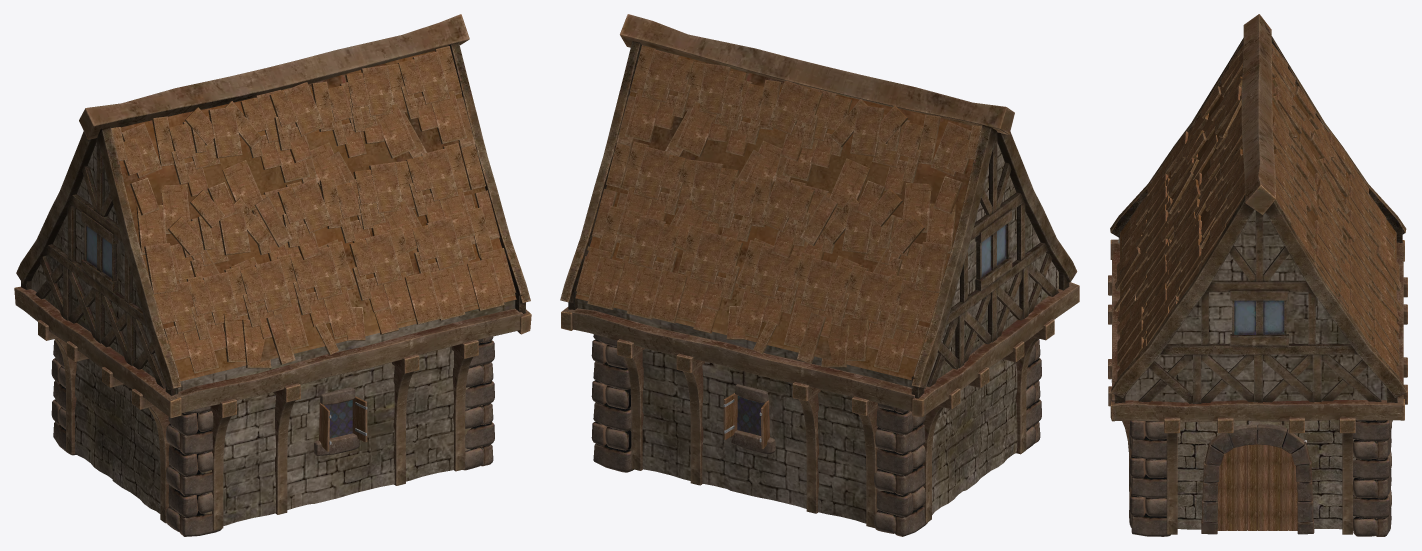
The model's file is house_tiny.glb.
The picture shows the model from 3 angles, left to right: view 1: azimuth 30°, elevation 25°; view 2: azimuth 150°, elevation 25°; view 3: azimuth 270°, elevation 25°; orthographic projection. The views are drawn at different scales.
Visible parts, largest first — view 1: defaultMaterial_2, defaultMaterial, defaultMaterial_4, defaultMaterial_3, defaultMaterial_1; view 2: defaultMaterial_2, defaultMaterial, defaultMaterial_4, defaultMaterial_3, defaultMaterial_1; view 3: defaultMaterial_2, defaultMaterial_3, defaultMaterial_4, defaultMaterial, defaultMaterial_1.
Boxes of the visible parts, bbox=[...] form: defaultMaterial_2: bbox=[79, 14, 516, 381]; defaultMaterial: bbox=[31, 142, 515, 525]; defaultMaterial_4: bbox=[14, 226, 531, 530]; defaultMaterial_3: bbox=[16, 42, 530, 395]; defaultMaterial_1: bbox=[51, 336, 494, 536]; defaultMaterial_2: bbox=[575, 14, 1014, 379]; defaultMaterial: bbox=[577, 142, 1058, 523]; defaultMaterial_4: bbox=[561, 225, 1079, 528]; defaultMaterial_3: bbox=[560, 41, 1077, 398]; defaultMaterial_1: bbox=[591, 334, 1041, 536]; defaultMaterial_2: bbox=[1114, 14, 1402, 378]; defaultMaterial_3: bbox=[1110, 36, 1407, 403]; defaultMaterial_4: bbox=[1108, 239, 1407, 534]; defaultMaterial: bbox=[1118, 210, 1386, 529]; defaultMaterial_1: bbox=[1129, 420, 1391, 536].
Bounding box in the file's own units: 6.97 × 6.92 × 5.11.
Materials: 5 (5 with a texture image).
